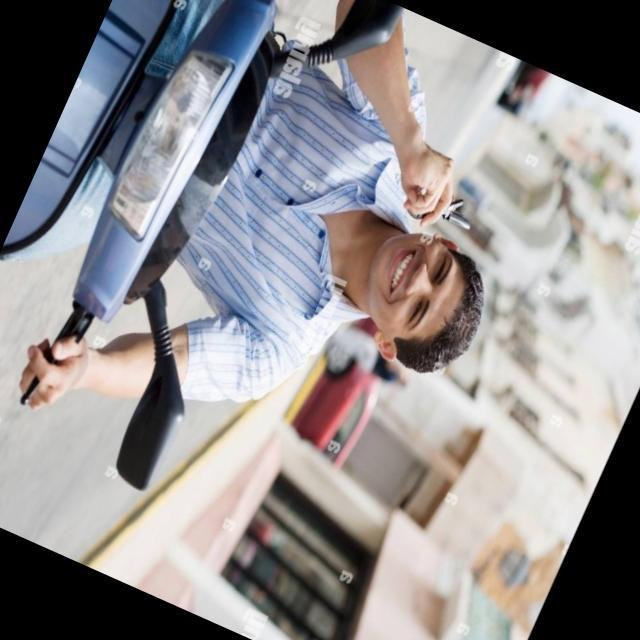USING_MOBILE: (270, 0, 547, 259)
